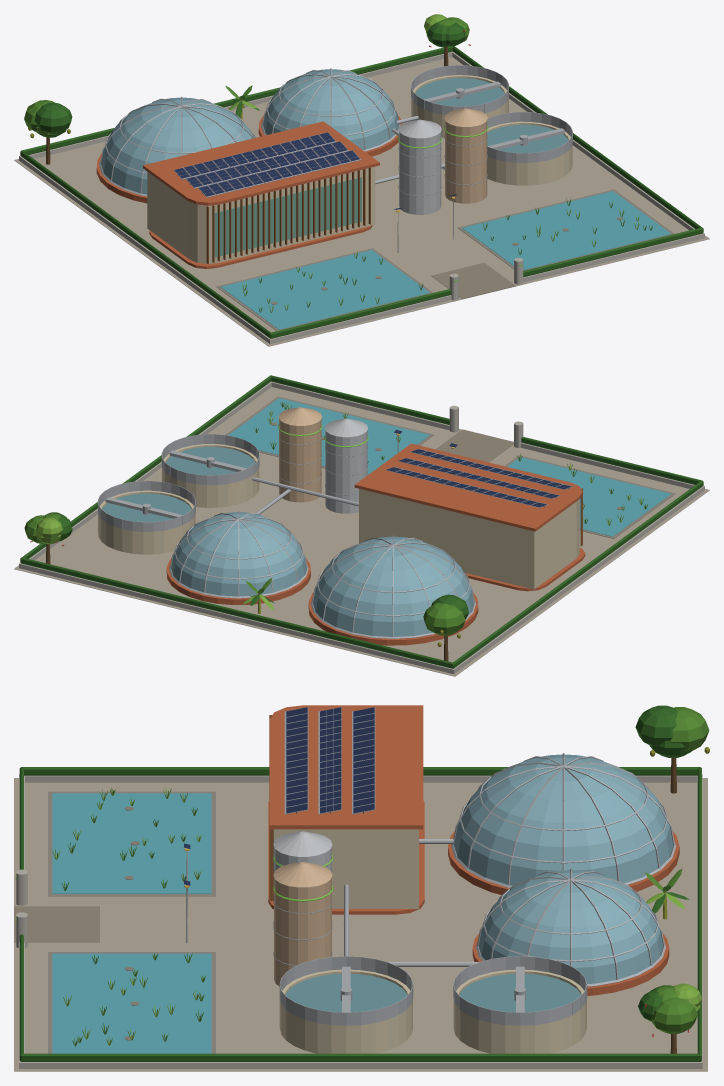
The model's file is water_works.glb.
3 views of the same model, one above another, from view 1: azimuth 30°, elevation 25°; view 2: azimuth 150°, elevation 25°; view 3: azimuth 270°, elevation 25° (orthographic). The views are drawn at different scales.
Parts seen in each view (by area): view 1: body; view 2: body; view 3: body.
Part boxes in pixels (x1,y1,x2,y2): body: (14,14,709,346); body: (14,375,709,676); body: (14,705,709,1071).
Size of the model in its own units: 47.9 by 8.93 by 48.05.
